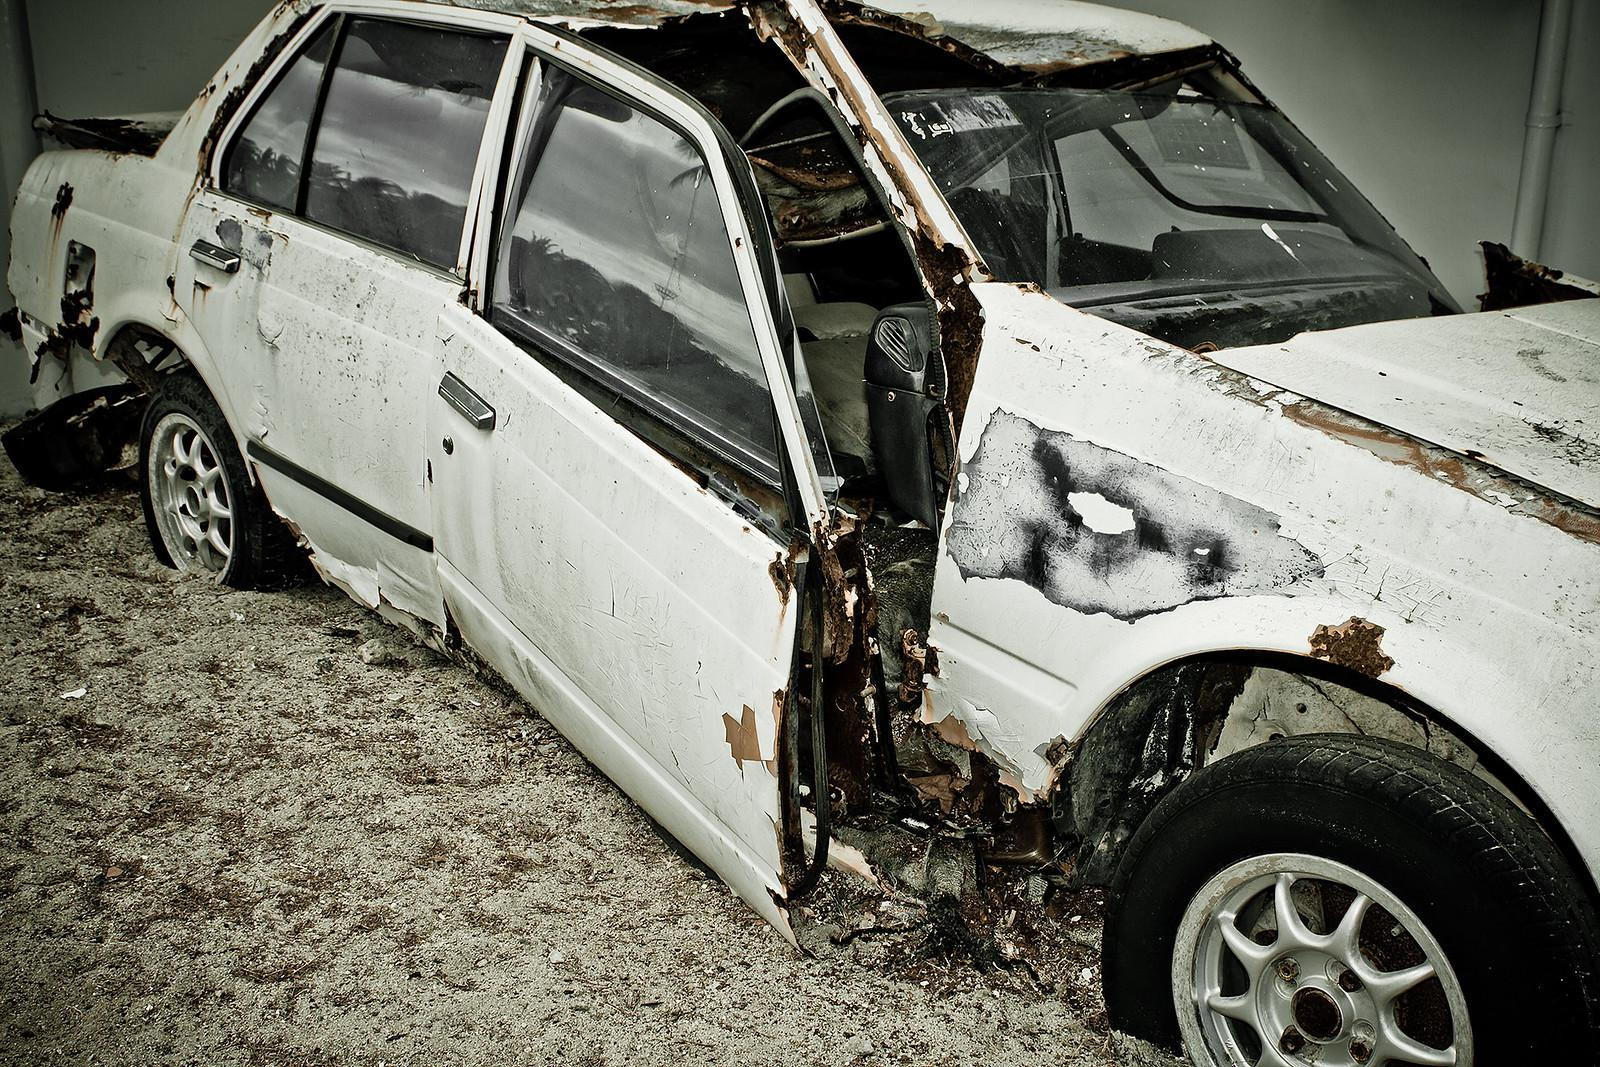bonnet-dent: (496, 88, 840, 893)
fender-dent: (981, 318, 1596, 775)
pillar-dent: (754, 4, 1007, 295)
quaterpanel-dent: (1, 152, 195, 362)
roof-dent: (426, 0, 1255, 130)
